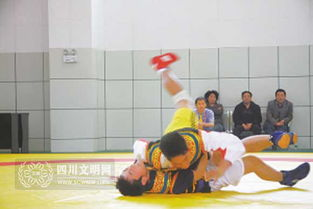fall: (124, 40, 226, 195)
